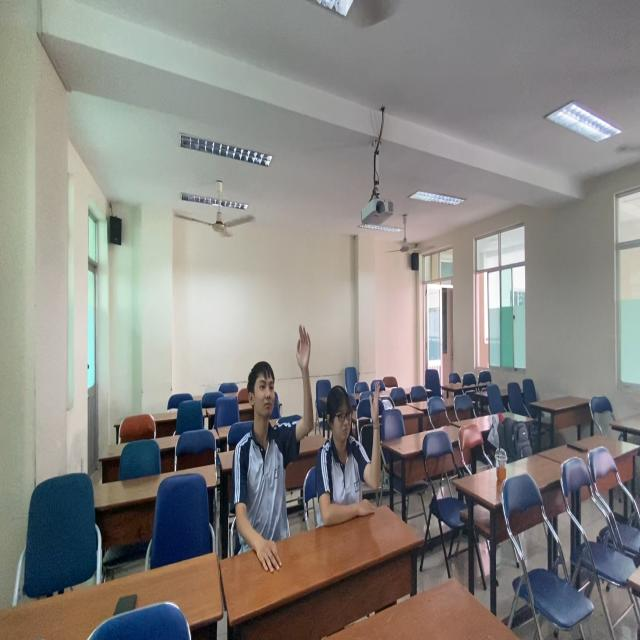raise_hand: (237, 319, 313, 571), (318, 373, 391, 529)
